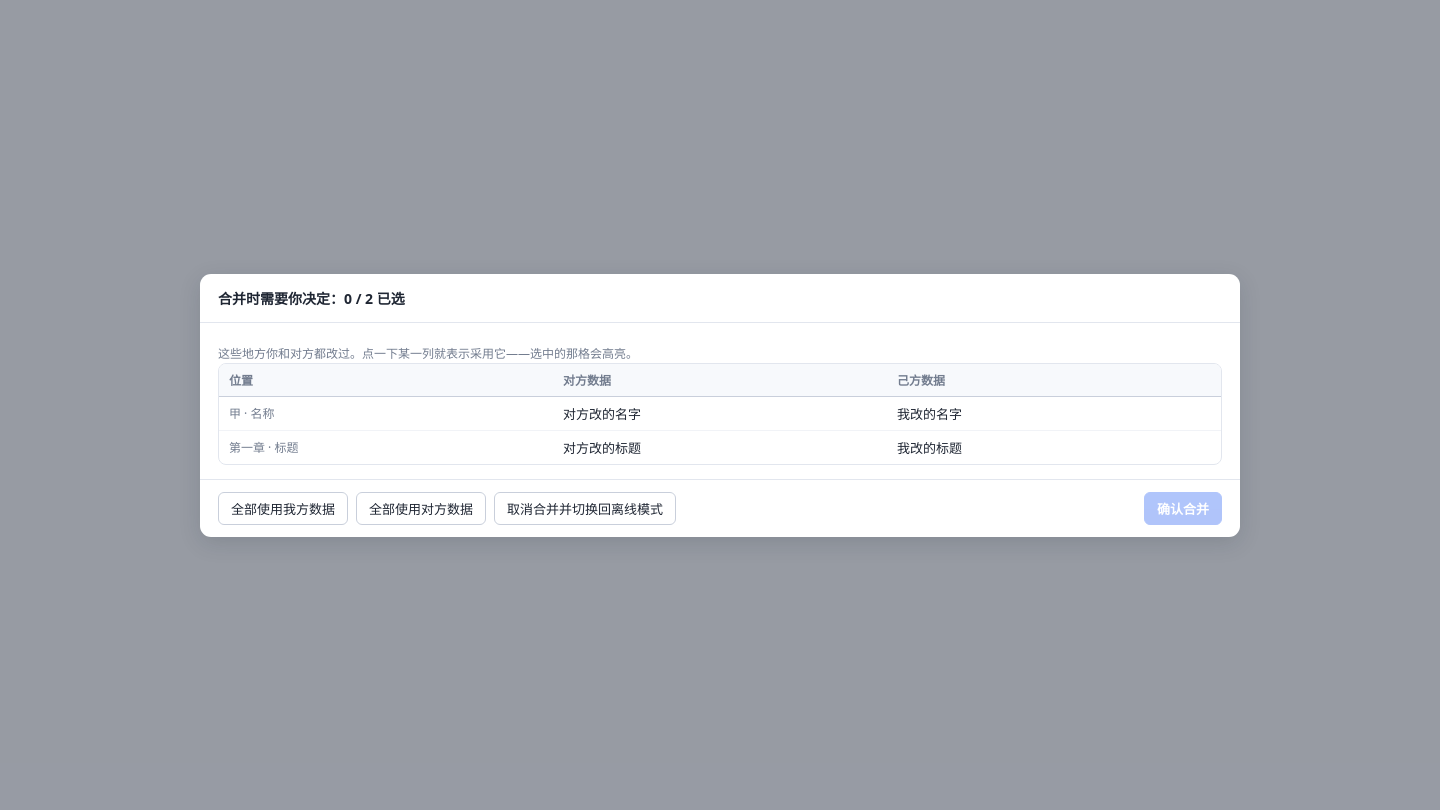
Test case: ConflictPanel › 还有没选的地方时，「确认合并」点不动
Check: the button "确认合并" is disabled, box [1144,492,1222,524]
Click the cell titled "点这里采用对方的数据": (720, 413) [553,396,887,430]
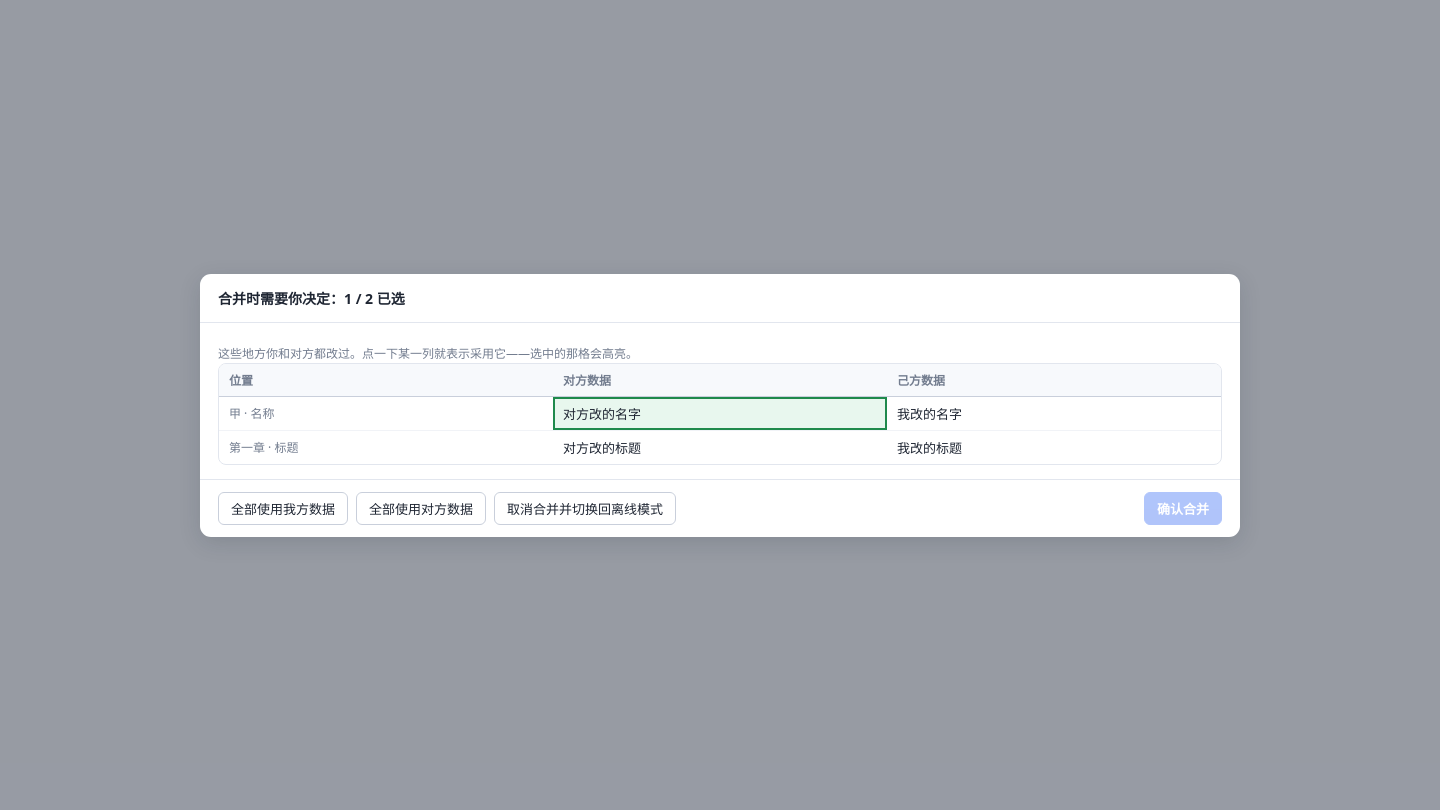
Click the cell titled "点这里采用对方的数据": (602, 448) [553,430,887,464]
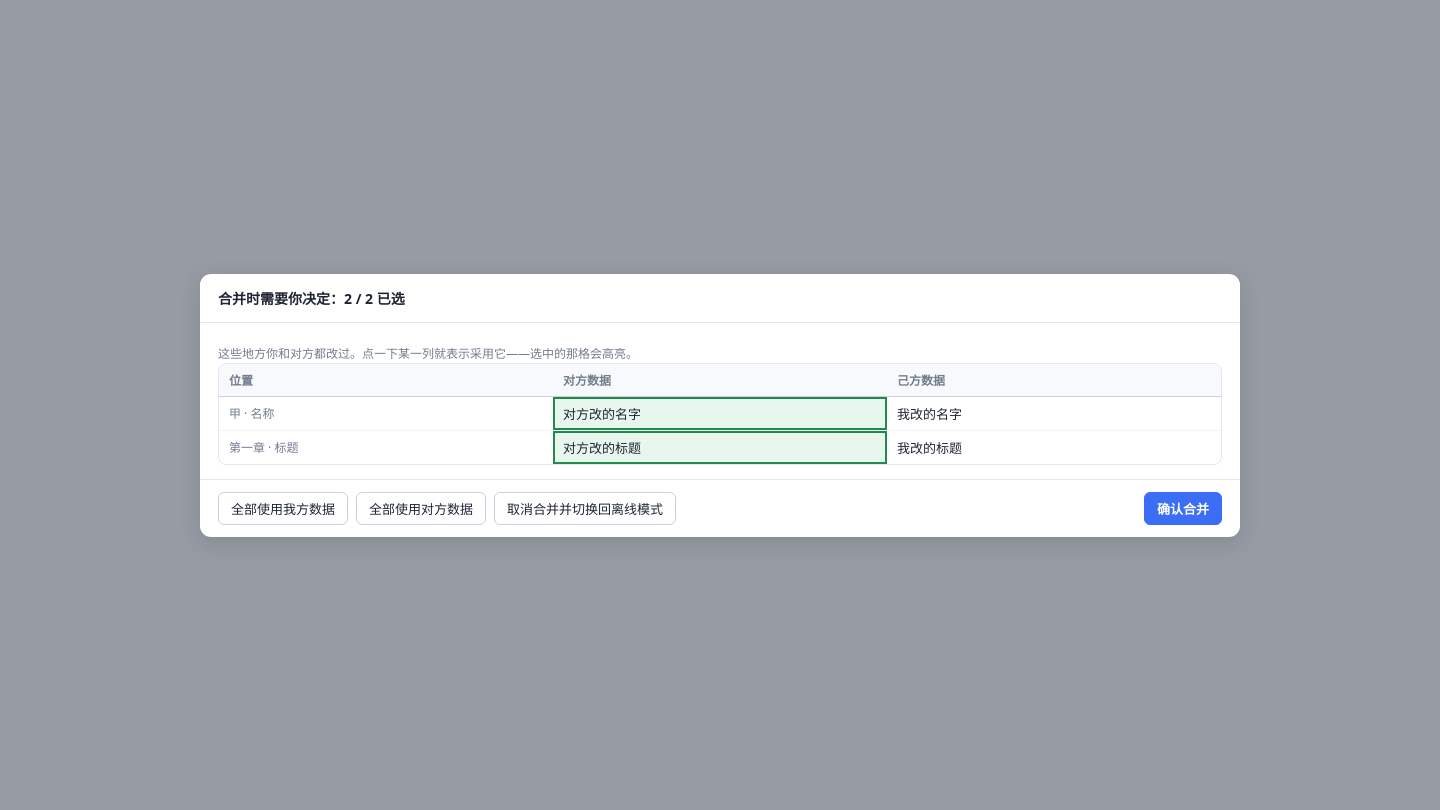
Check: the button "确认合并" is enabled, box [1144,492,1222,524]
